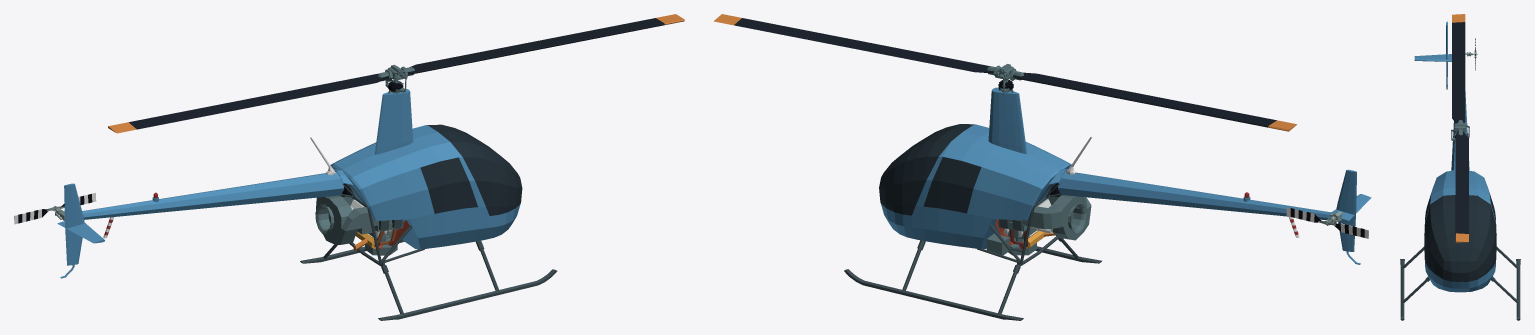
File: helicopter1.glb
The picture shows the model from 3 angles, left to right: view 1: azimuth 30°, elevation 25°; view 2: azimuth 150°, elevation 25°; view 3: azimuth 270°, elevation 25°; orthographic projection. The views are drawn at different scales.
Visible parts, largest first — view 1: HeliMainBody, HeliTail, main_rotor_blade2, main_rotor_blade1, Cube.040, RotorMast, TailVerStab, Cylinder2.001, tail_rotor_blades; view 2: HeliMainBody, HeliTail, main_rotor_blade2, main_rotor_blade1, Cube.040, RotorMast, TailVerStab, Cylinder2, tail_rotor_blades; view 3: HeliMainBody, main_rotor_blade1, main_rotor_blade2, Cylinder2, Cylinder2.001, TailHorStab1, HeliTail, TailVerStab, Cylinder1, Cylinder1.001.
Part boxes in pixels (x1,y1,x2,y2): HeliMainBody: (330, 124, 522, 249); HeliTail: (82, 171, 343, 219); main_rotor_blade2: (108, 73, 388, 133); main_rotor_blade1: (407, 14, 684, 73); Cube.040: (315, 195, 391, 244); RotorMast: (375, 88, 413, 154); TailVerStab: (64, 183, 84, 265); Cylinder2.001: (378, 269, 557, 320); tail_rotor_blades: (14, 193, 96, 224); HeliMainBody: (879, 124, 1073, 248); HeliTail: (1058, 171, 1332, 220); main_rotor_blade2: (1013, 72, 1296, 131); main_rotor_blade1: (714, 14, 993, 73); Cube.040: (1010, 195, 1091, 240); RotorMast: (988, 87, 1026, 154); TailVerStab: (1336, 169, 1356, 251); Cylinder2: (844, 269, 1023, 320); tail_rotor_blades: (1286, 207, 1368, 238); HeliMainBody: (1424, 170, 1496, 292); main_rotor_blade1: (1455, 131, 1468, 242); main_rotor_blade2: (1452, 14, 1465, 123); Cylinder2: (1516, 259, 1520, 320); Cylinder2.001: (1400, 259, 1404, 320); TailHorStab1: (1414, 54, 1451, 61); HeliTail: (1451, 91, 1469, 170); TailVerStab: (1446, 21, 1447, 86); Cylinder1: (1491, 276, 1518, 302); Cylinder1.001: (1402, 276, 1429, 302).
Bounding box in the file's own units: 9.76 × 3.17 × 2.09.
Materials: 7 (6 with a texture image).
